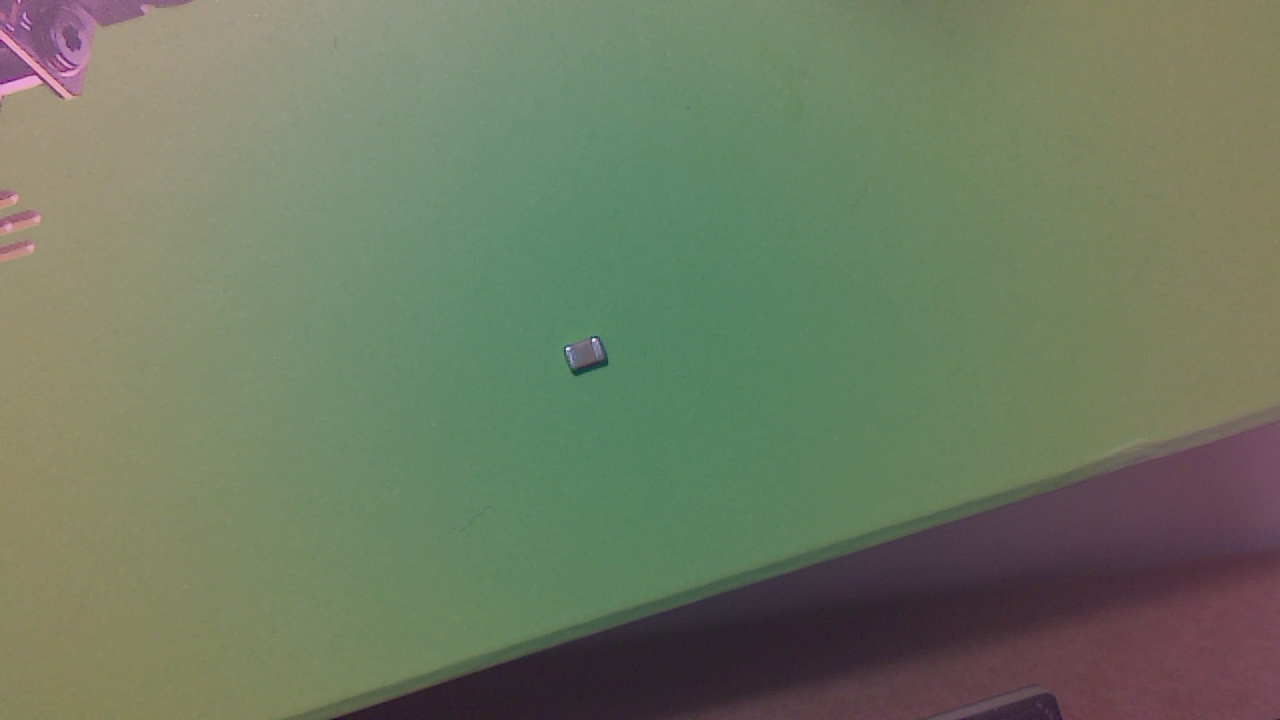Condensator: (571, 337, 614, 382)
